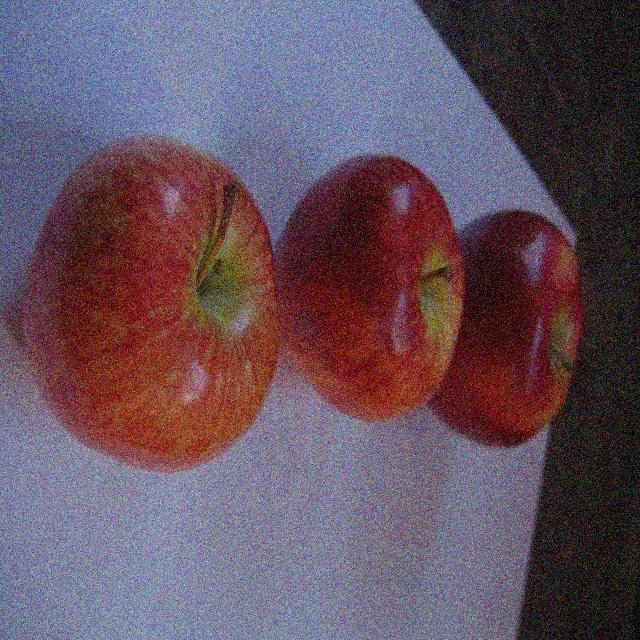red apple: (19, 135, 280, 472), (274, 156, 466, 433), (425, 206, 592, 454)
